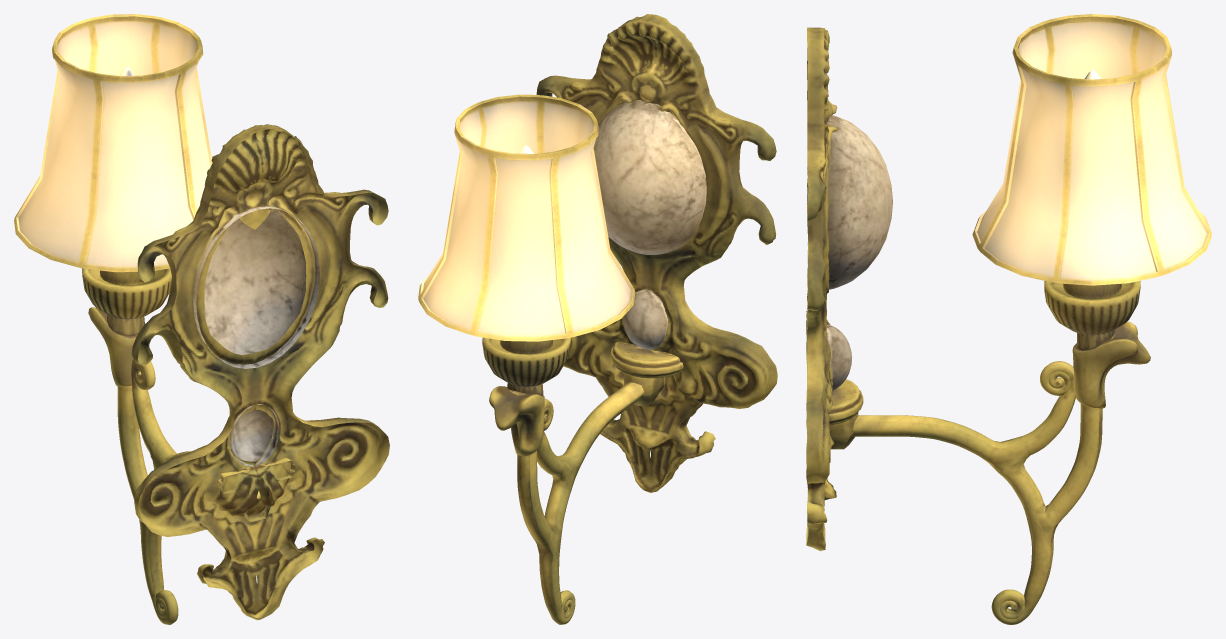
File: antique-wall-light-ba2bc4.glb
The picture shows the model from 3 angles, left to right: view 1: azimuth 30°, elevation 25°; view 2: azimuth 150°, elevation 25°; view 3: azimuth 270°, elevation 25°; orthographic projection. The views are drawn at different scales.
Visible parts, largest first — view 1: PropMesh; view 2: PropMesh; view 3: PropMesh.
Boxes of the visible parts, x1,y1,x2,y2 form: PropMesh: [14, 14, 389, 624]; PropMesh: [418, 14, 777, 624]; PropMesh: [806, 14, 1211, 624].
Bounding box in the file's own units: 0.9387 × 2 × 1.24.
Materials: 1 (1 with a texture image).
